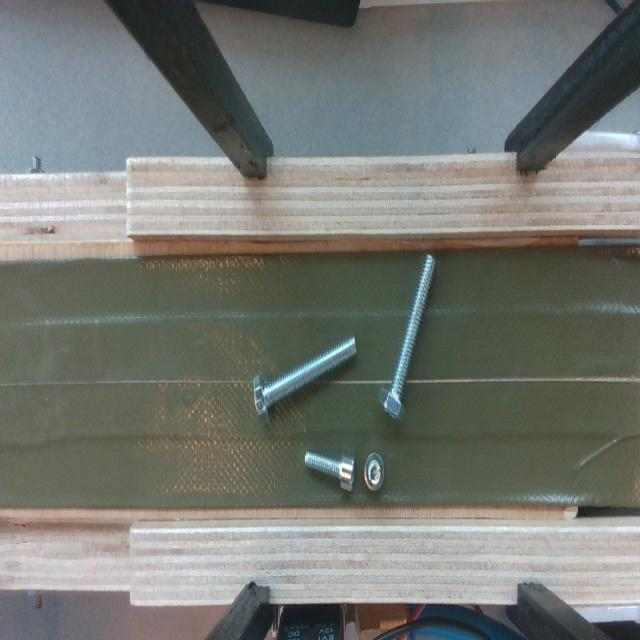Bolt: (380, 255, 435, 421), (254, 339, 356, 422), (305, 452, 355, 491), (364, 452, 384, 491)
